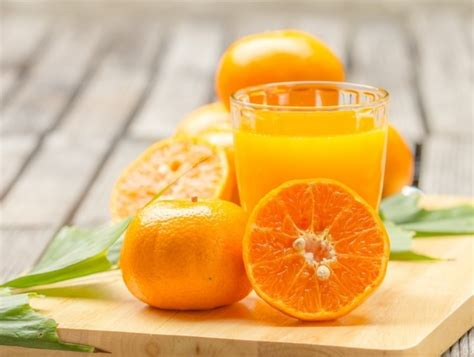orange: (120, 197, 253, 313), (214, 26, 345, 97)
